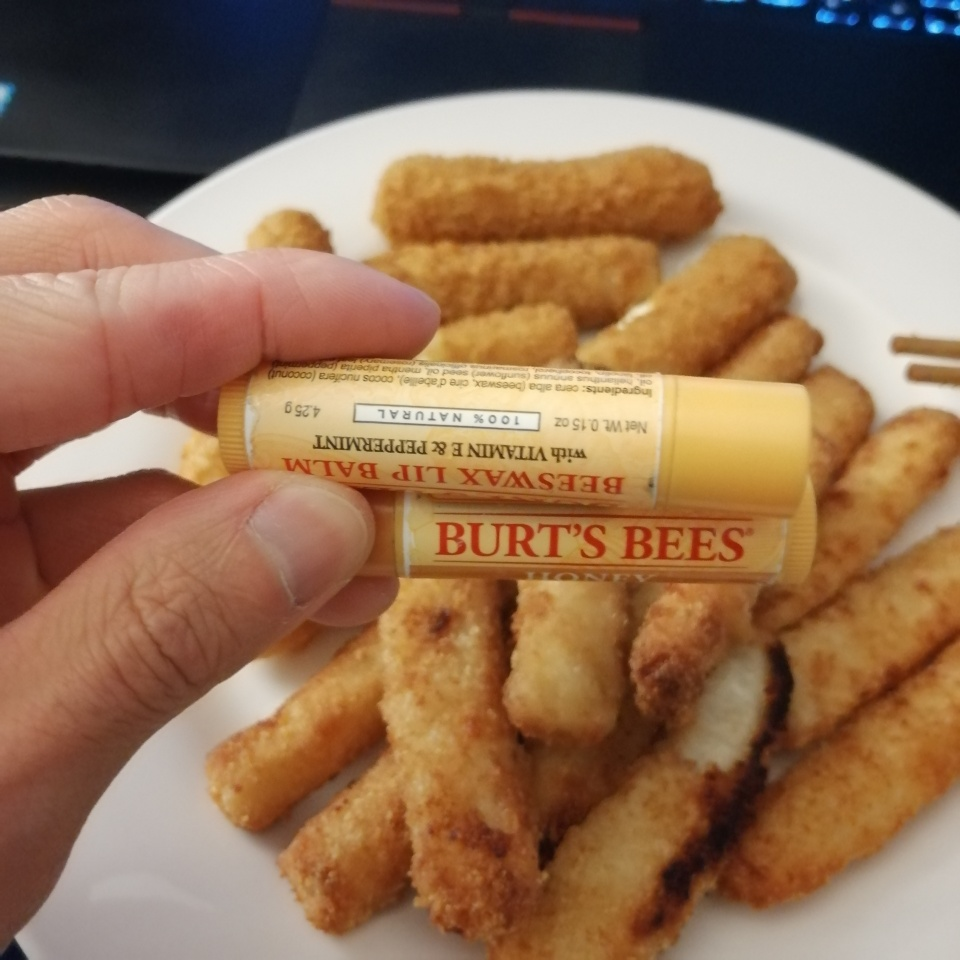chapstick: (219, 359, 814, 519), (339, 475, 821, 586)
